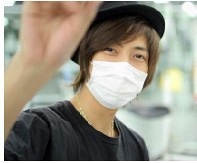face_mask: (85, 24, 151, 104)
